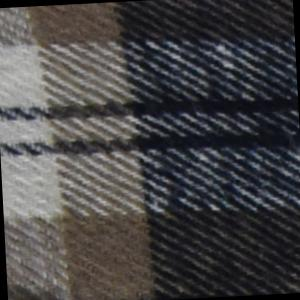Stain: (8, 279, 77, 300)
